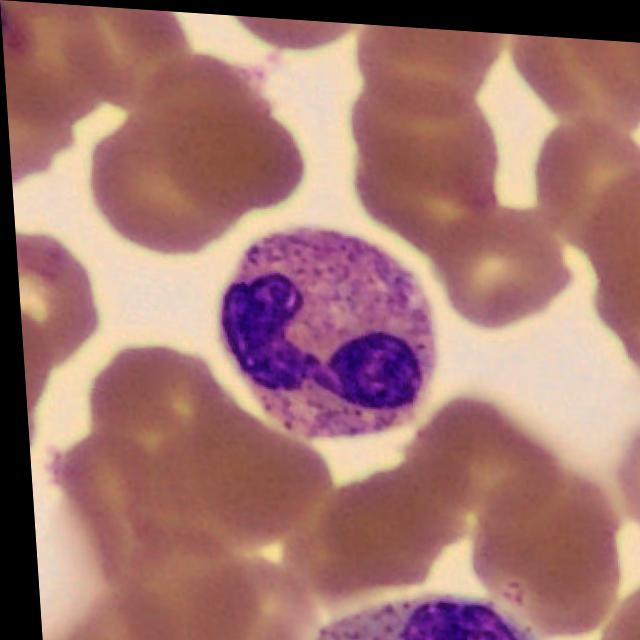Neutrofilo segmentado: (215, 221, 431, 435)
